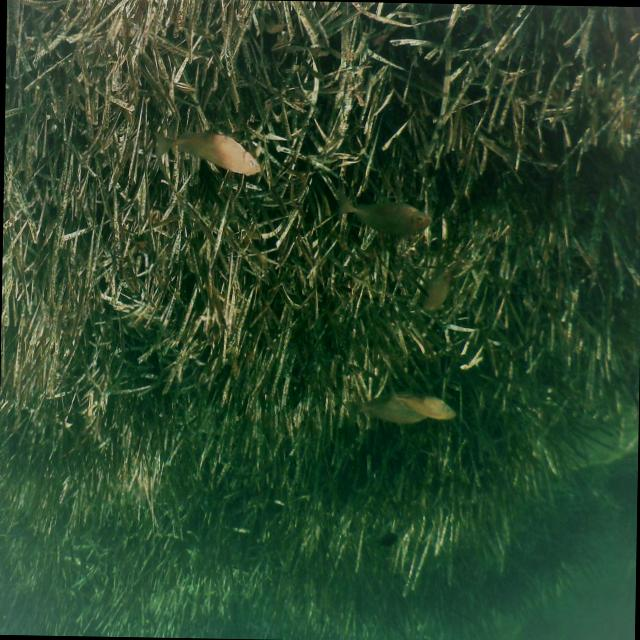Sokar Baligi: (161, 102, 273, 192), (324, 176, 442, 252)
